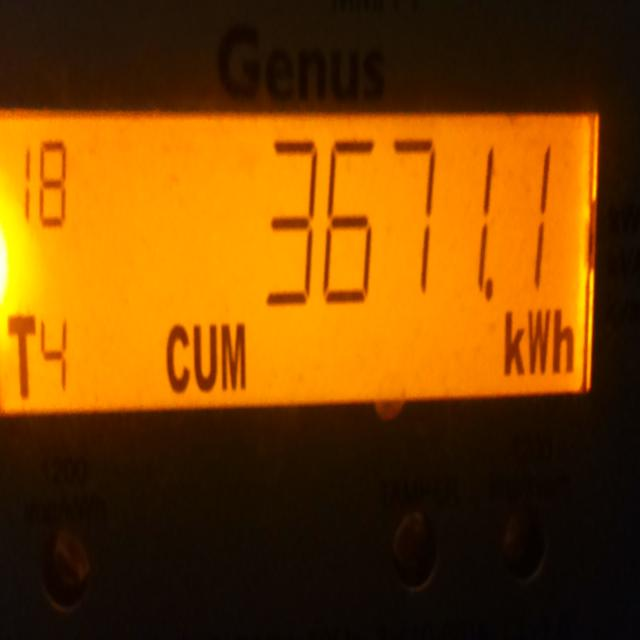.: (486, 278, 494, 296)
1: (475, 150, 494, 300), (534, 147, 551, 288), (25, 142, 33, 225)
3: (268, 138, 318, 300)
6: (327, 141, 375, 307)
7: (392, 138, 436, 298)
8: (42, 141, 66, 229)
